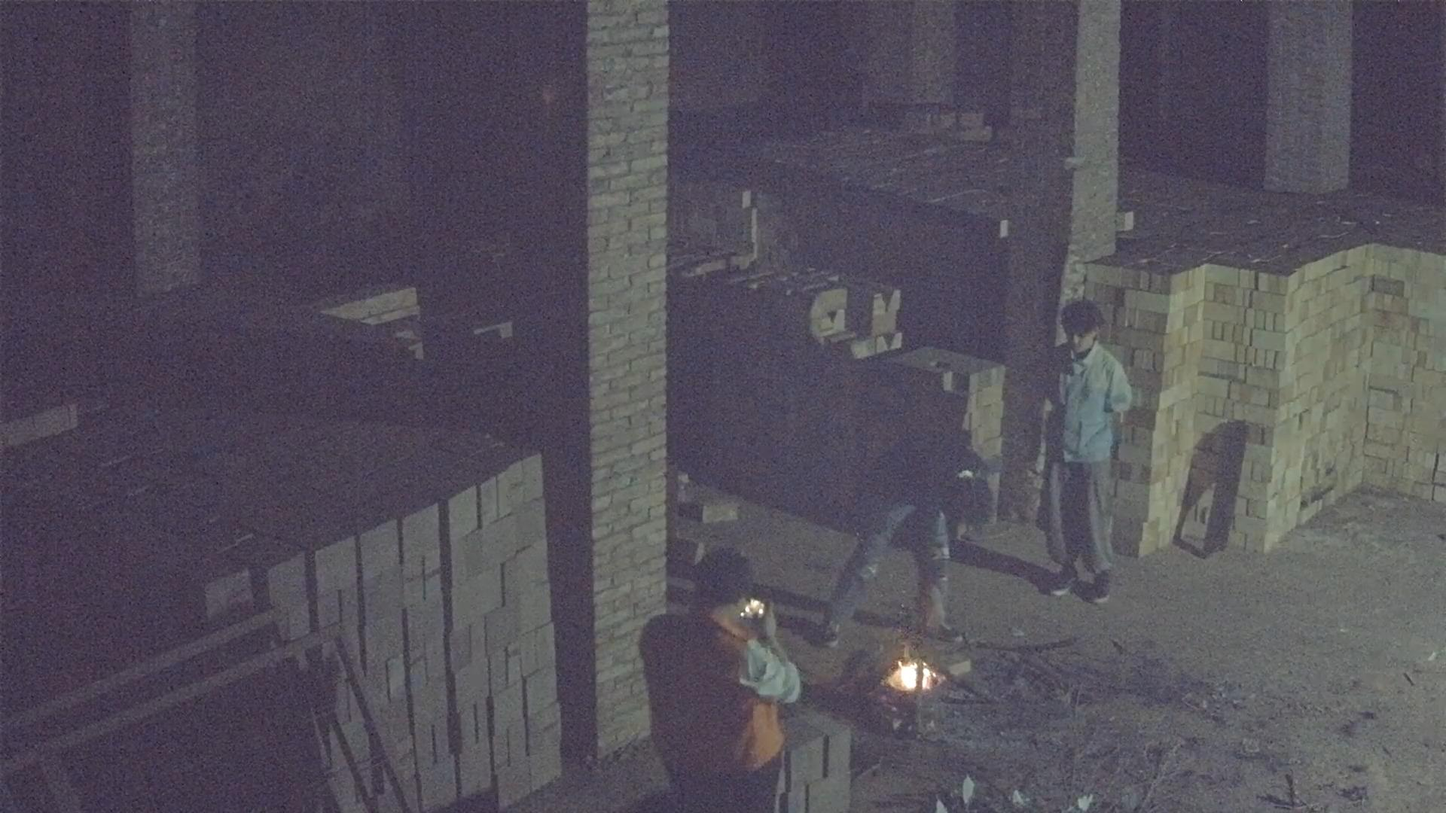fire: (883, 653, 944, 700)
